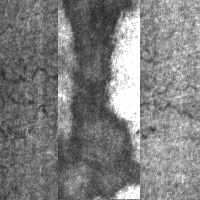crazing: (2, 64, 101, 127), (58, 133, 133, 191), (110, 79, 199, 123)
patches: (58, 0, 140, 199)
